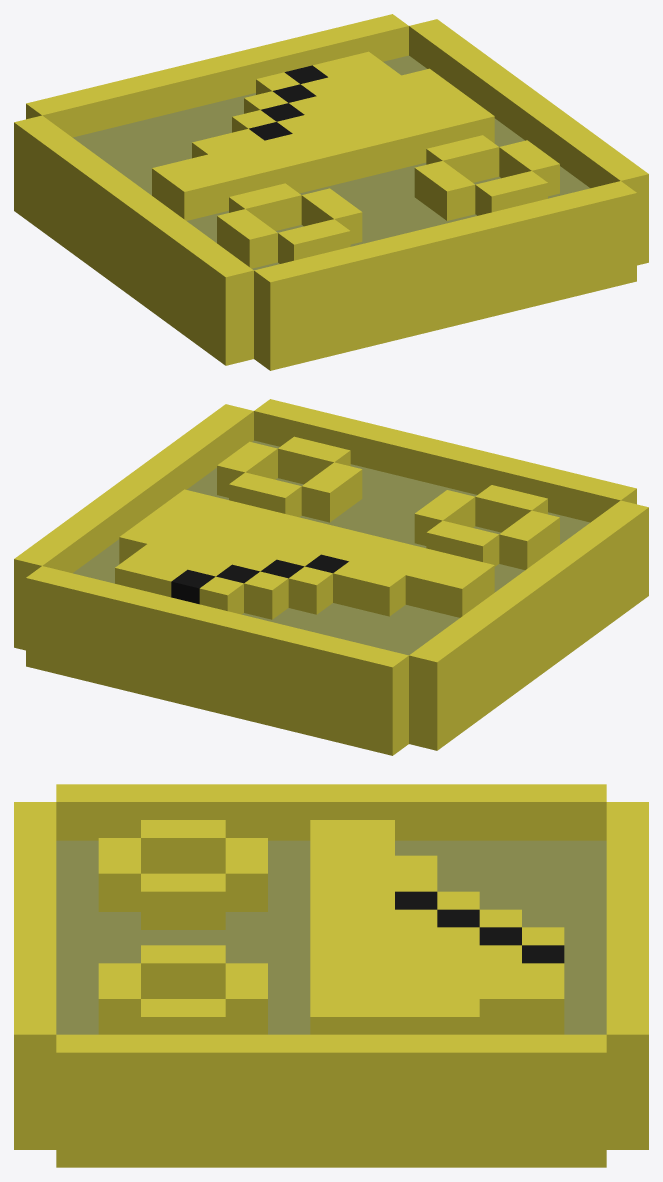
Rendered from powerup_speed.fbx.
The picture shows the model from 3 angles, top to bottom: view 1: azimuth 30°, elevation 25°; view 2: azimuth 150°, elevation 25°; view 3: azimuth 270°, elevation 25°; orthographic projection. The views are drawn at different scales.
Parts seen in each view (by area): view 1: powerup_speed; view 2: powerup_speed; view 3: powerup_speed.
Part boxes in pixels (x1,y1,x2,y2): powerup_speed: [14, 14, 648, 370]; powerup_speed: [14, 399, 648, 755]; powerup_speed: [14, 784, 648, 1167].
Size of the model in its own units: 150 by 30 by 150.
